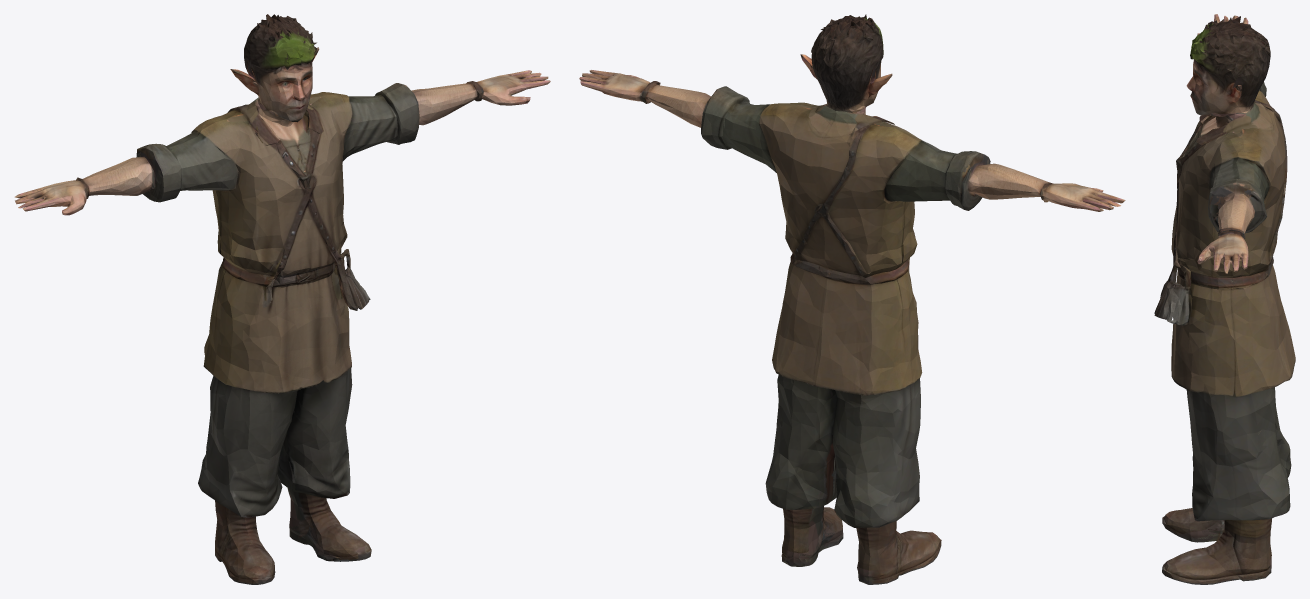
Rendered from 3d_poor_elf_medieval__0525174357_texture.fbx.
3 views of the same model, side by side, from view 1: azimuth 30°, elevation 25°; view 2: azimuth 150°, elevation 25°; view 3: azimuth 270°, elevation 25° (orthographic).
Parts seen in each view (by area): view 1: temp; view 2: temp; view 3: temp.
Part boxes in pixels (x1,y1,x2,y2): temp: (14,14,550,584); temp: (579,14,1125,584); temp: (1154,14,1295,584).
Bounding box in the file's own units: 199 × 193 × 46.26.
Materials: 1 (1 with a texture image).
